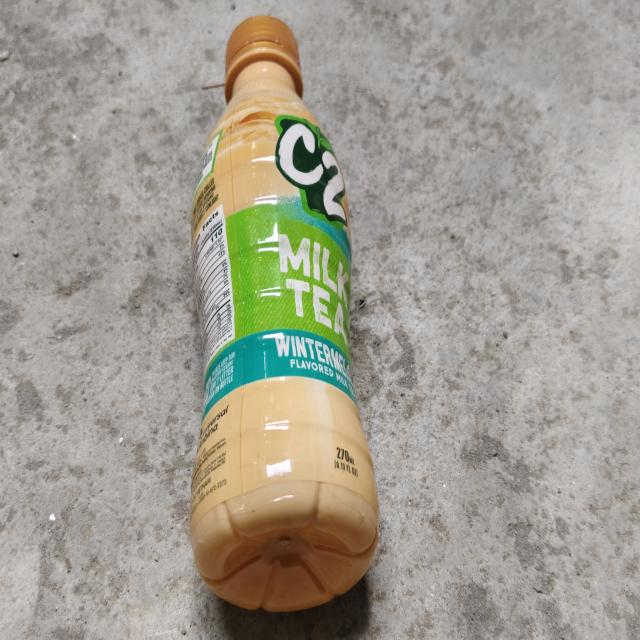Bottle: (187, 15, 380, 616)
